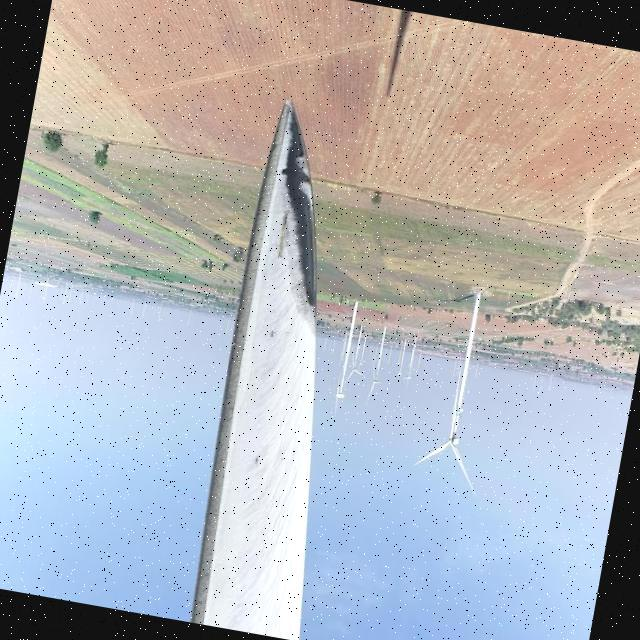Dirt: (200, 103, 316, 636)
Oil LEAKAGE: (285, 107, 320, 310)
Pin Hole: (277, 149, 307, 179), (265, 326, 279, 344), (252, 451, 265, 469)
